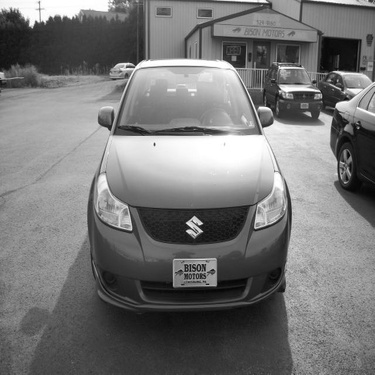car: (74, 56, 297, 317), (327, 81, 370, 206), (253, 56, 324, 120), (315, 63, 371, 113), (105, 58, 139, 79)
